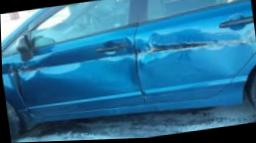Door: (15, 30, 141, 121), (137, 9, 256, 100)
